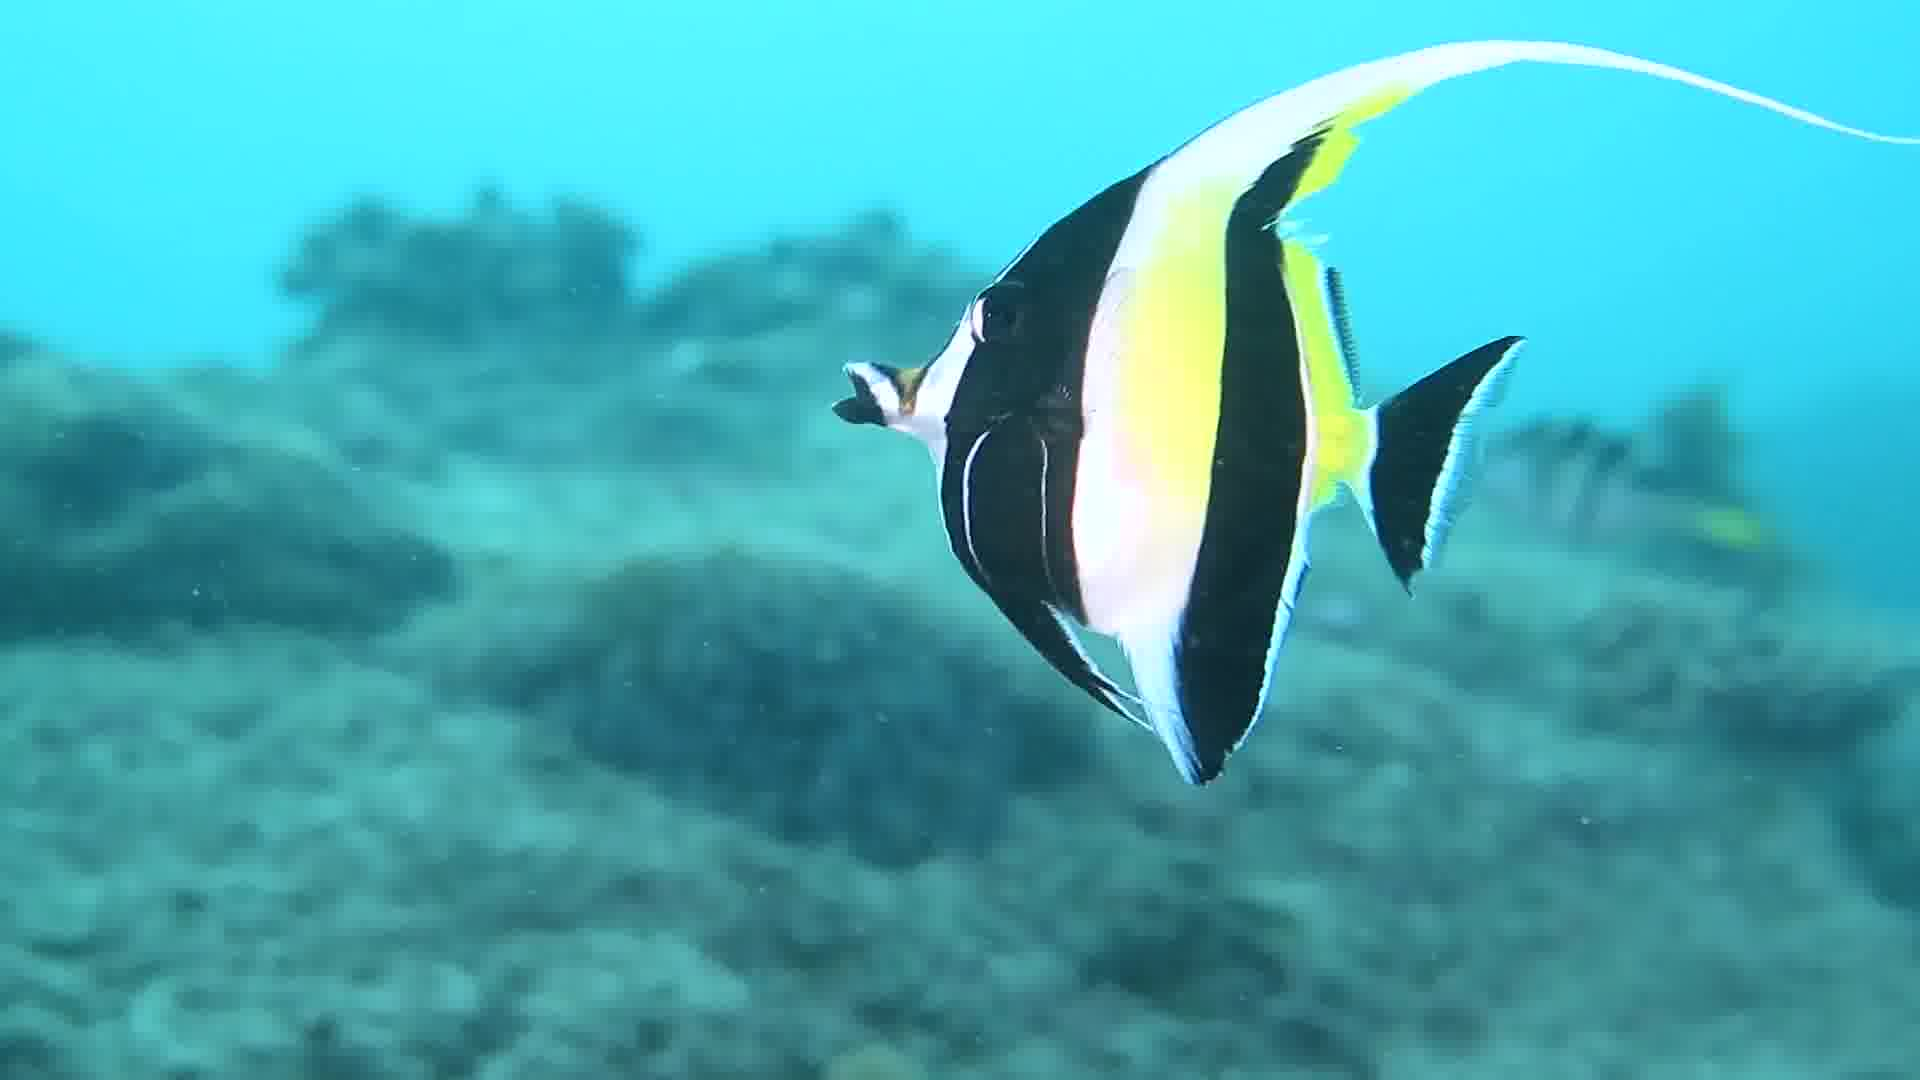Zanclus cornutus: (824, 1, 1491, 816)
